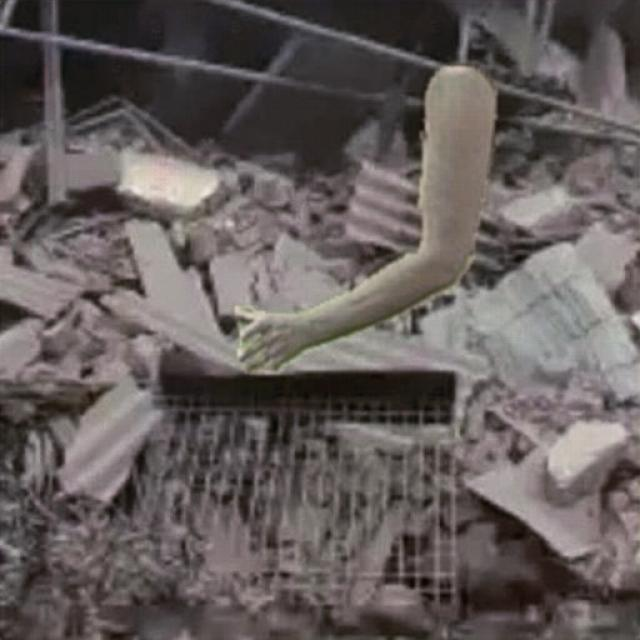Person in Rubble: (235, 64, 496, 372)
